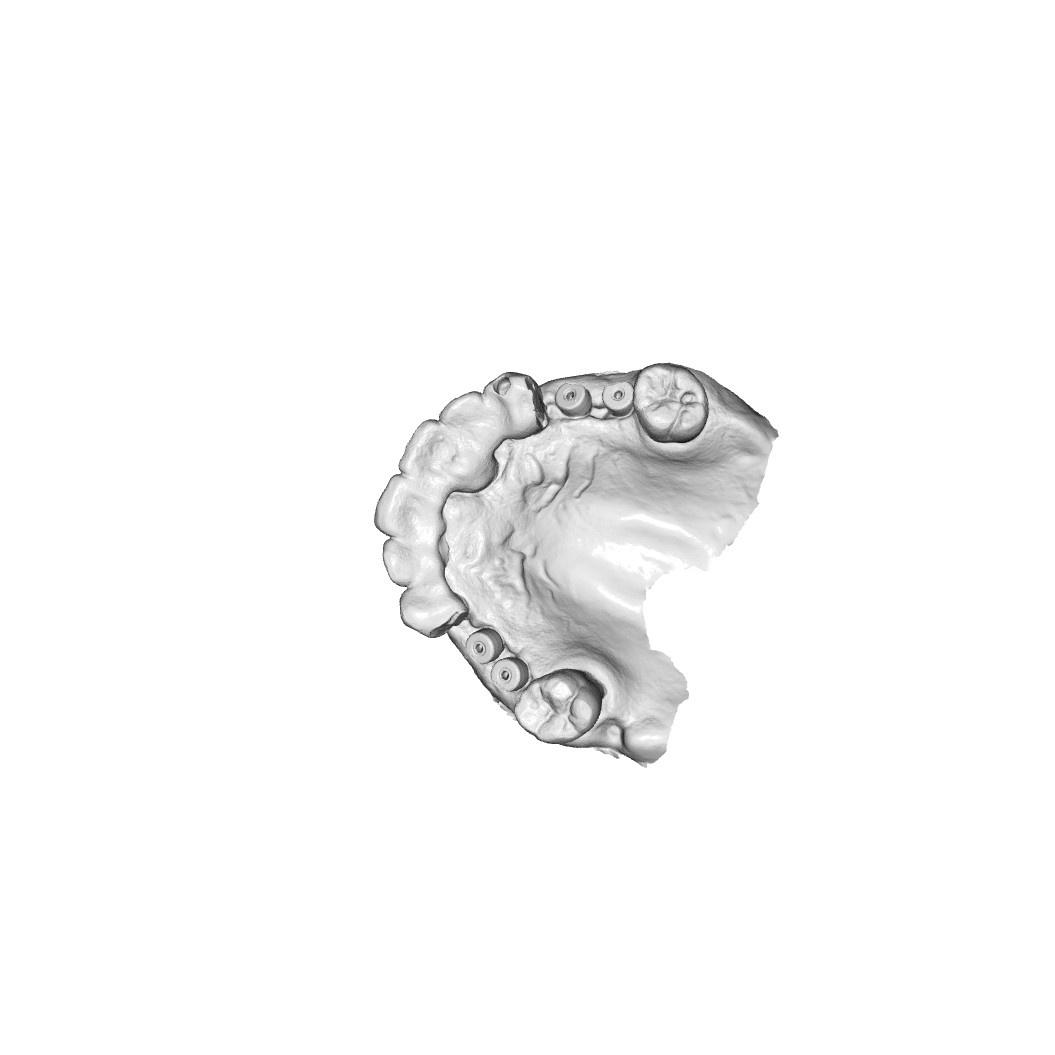canine: (478, 370, 546, 440), (395, 585, 468, 636)
implant: (487, 657, 531, 694), (554, 378, 591, 419), (463, 628, 503, 664), (601, 381, 636, 417)
incisor: (372, 471, 440, 539), (397, 416, 461, 482), (380, 531, 450, 584), (436, 388, 491, 442)
molar: (512, 667, 606, 746), (633, 363, 709, 445)
